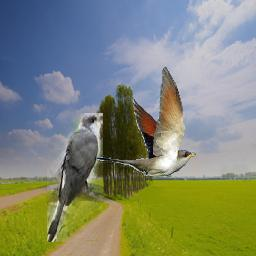Cuckoo: (96, 66, 196, 177), (47, 114, 103, 243)
